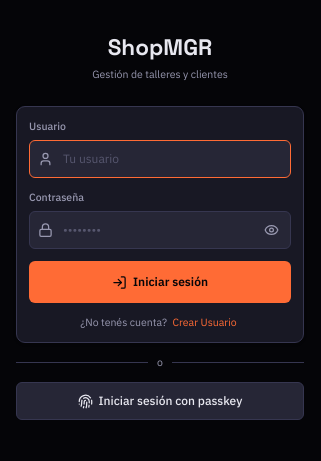
Login: toggle mostrar/ocultar contraseña (issue #96) › vuelve a ocultar la contraseña cuando el login falla
This screenshot has width=321, height=461.
Type "juan" into the field labelled "Usuario" at (160, 159), box [29, 140, 291, 178]
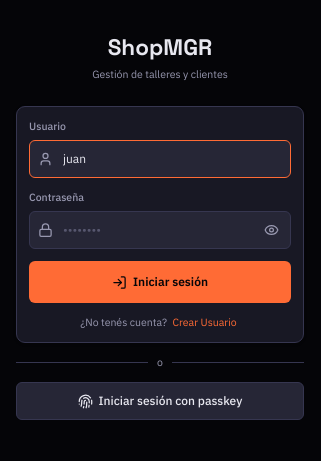
Type "secreto" into the password field labelled "Contraseña" at (160, 230), box [29, 211, 291, 249]
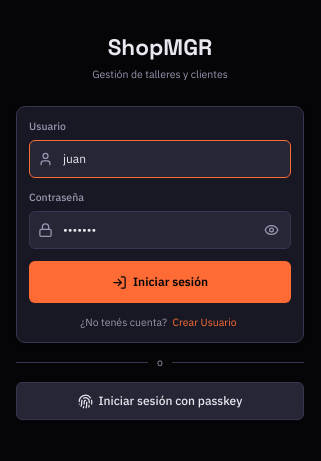
Click the button named "Mostrar contraseña" at (272, 230), box [258, 216, 285, 244]
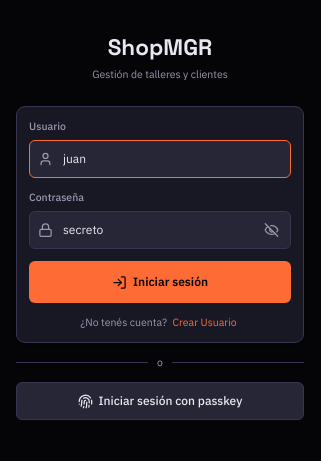
Now the field labelled "Contraseña" shows its text, box [29, 211, 291, 249]
Click the button "Iniciar sesión" at (160, 282), box [29, 261, 291, 303]
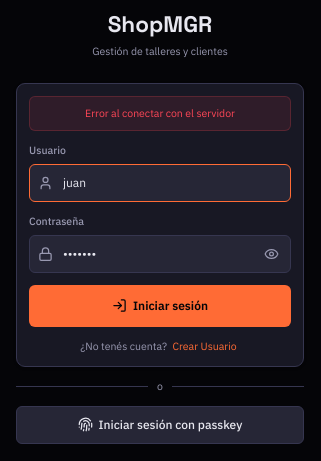
Now the password field labelled "Contraseña" hides its text, box [29, 234, 291, 272]
Now the button named "Mostrar contraseña" is shown, box [258, 240, 285, 267]
